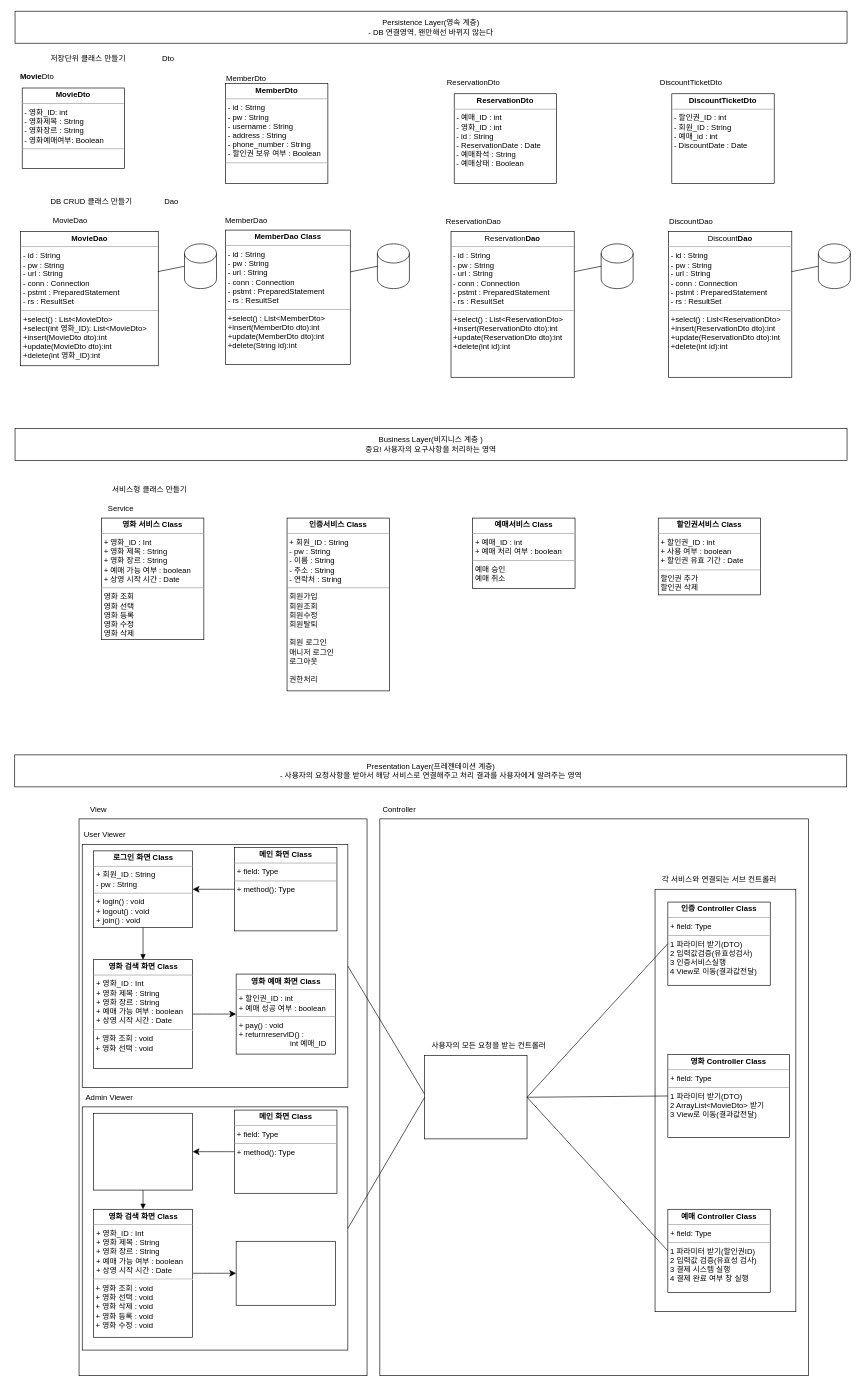
The diagram is 861 pixels wide and 1387 high, and some of its shapes have lost their labels. Each missing label, with the box of its shape:
FrontController Class + field: Type + method(): Type: (424, 1055, 527, 1139)
로그인 화면 Class + 관리자_ID : String - pw : String + login() : void + logout() : void: (93, 1113, 193, 1190)
영화 예매 화면 Class + 할인권_ID : int + access() : void + cancel() : void: (236, 1241, 335, 1305)
영화 테이블: (184, 243, 217, 289)
예매 테이블: (601, 243, 633, 289)
할인권 테이블: (818, 243, 850, 289)
회원 테이블: (377, 243, 409, 289)
